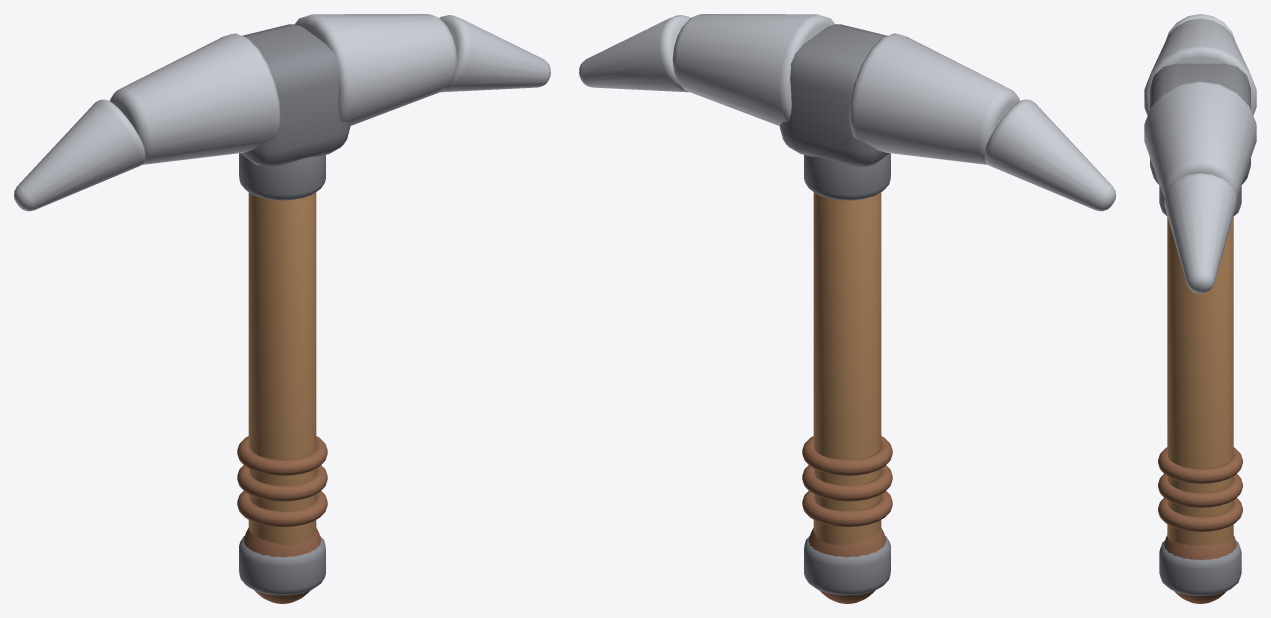
Rendered from pickaxe_iron.glb.
3 renders of one model, left to right at view 1: azimuth 30°, elevation 25°; view 2: azimuth 150°, elevation 25°; view 3: azimuth 270°, elevation 25°, orthographic. The views are drawn at different scales.
Visible parts, largest first — view 1: Handle.002, Inner pick.004, Inner pick.005, Head hub.002, Curved pick tip.004, Curved pick tip.005, Handle cap, Iron collar, Grip wrap.008, Grip wrap.007, Grip wrap.006, Rounded grip end.002; view 2: Handle.002, Inner pick.004, Inner pick.005, Head hub.002, Curved pick tip.004, Curved pick tip.005, Handle cap, Iron collar, Grip wrap.008, Grip wrap.007, Grip wrap.006, Rounded grip end.002; view 3: Handle.002, Inner pick.005, Curved pick tip.005, Inner pick.004, Handle cap, Head hub.002, Grip wrap.008, Grip wrap.007, Grip wrap.006, Rounded grip end.002, Curved pick tip.004, Iron collar.
Boxes of the visible parts, x1,y1,x2,y2 form: Handle.002: [248, 192, 316, 545]; Inner pick.004: [110, 33, 280, 164]; Inner pick.005: [295, 14, 457, 125]; Head hub.002: [240, 24, 350, 166]; Curved pick tip.004: [14, 99, 145, 211]; Curved pick tip.005: [440, 15, 550, 92]; Handle cap: [239, 536, 325, 595]; Iron collar: [239, 153, 325, 200]; Grip wrap.008: [237, 436, 327, 475]; Grip wrap.007: [237, 465, 327, 501]; Grip wrap.006: [237, 491, 327, 527]; Rounded grip end.002: [243, 527, 321, 603]; Handle.002: [813, 192, 881, 545]; Inner pick.004: [849, 33, 1019, 164]; Inner pick.005: [672, 14, 834, 125]; Head hub.002: [779, 24, 889, 166]; Curved pick tip.004: [984, 99, 1115, 211]; Curved pick tip.005: [579, 15, 689, 92]; Handle cap: [804, 536, 890, 595]; Iron collar: [804, 153, 890, 200]; Grip wrap.008: [802, 436, 892, 475]; Grip wrap.007: [802, 465, 892, 501]; Grip wrap.006: [802, 491, 892, 527]; Rounded grip end.002: [808, 527, 886, 603]; Handle.002: [1167, 217, 1233, 545]; Inner pick.005: [1144, 81, 1256, 197]; Curved pick tip.005: [1164, 173, 1236, 293]; Inner pick.004: [1144, 18, 1256, 115]; Handle cap: [1159, 540, 1241, 595]; Head hub.002: [1150, 63, 1250, 184]; Grip wrap.008: [1158, 447, 1242, 483]; Grip wrap.007: [1158, 474, 1242, 507]; Grip wrap.006: [1158, 498, 1242, 531]; Rounded grip end.002: [1164, 535, 1236, 603]; Curved pick tip.004: [1166, 14, 1234, 39]; Iron collar: [1159, 185, 1241, 216].
Bounding box in the file's own units: 2.17 × 2.23 × 0.4224.
